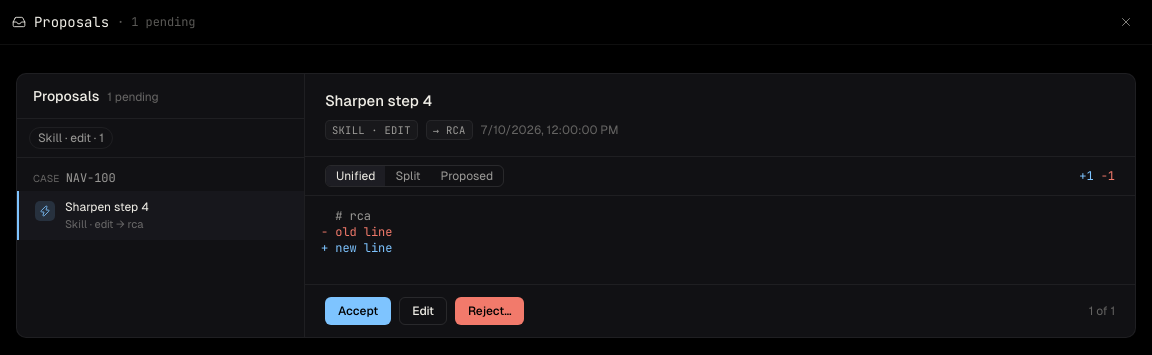
Test: ProposalsStandalone freshness › a background refetch preserves an in-flight edit draft, even when the new row sorts first
Expected: the button with aria-label "Select proposal Sharpen step 4" is shown, [17,190,304,240]
Click the button with aria-label "Edit Sharpen step 4" at x=423, y=311, box [399,297,447,325]
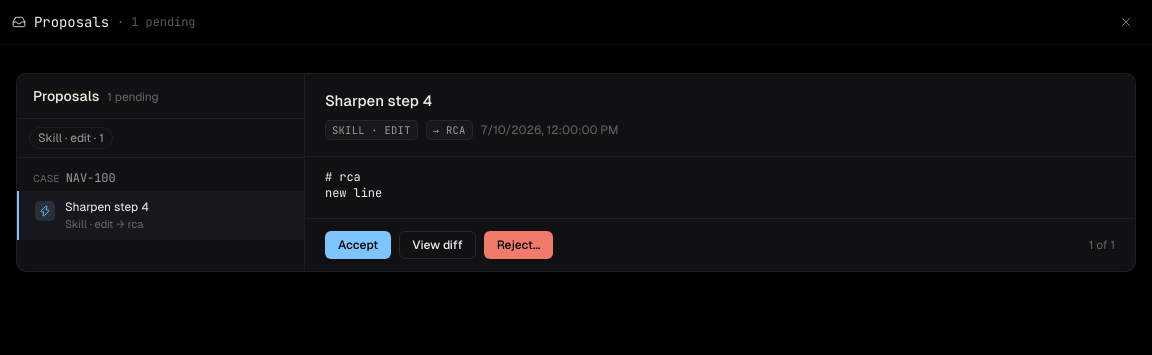
Replace the text in the text box named "Edit proposal content" with "my half-written draft" at x=720, y=187, box [305,157,1135,218]
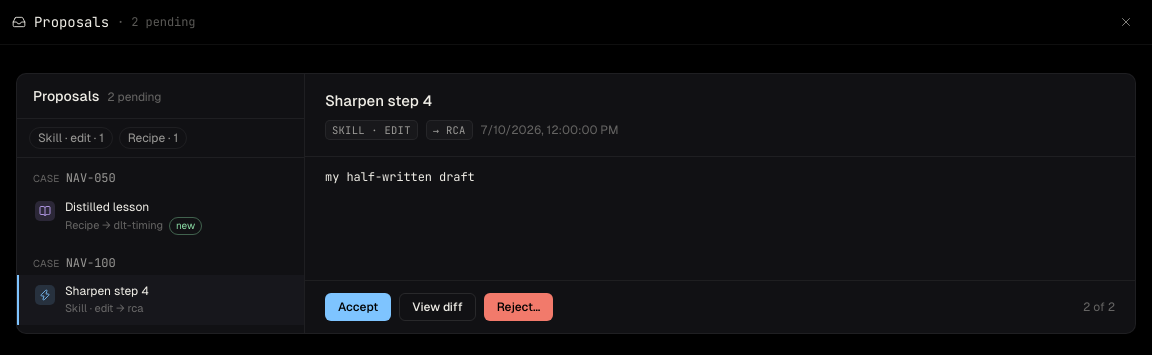
Expected: the heading "Sharpen step 4" is shown, [325,92,432,109]
Expected: the button with aria-label "Select proposal Distilled lesson" is shown, [17,190,304,242]
